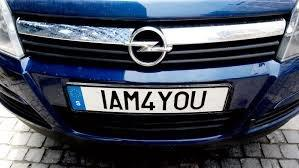license-plates: (66, 85, 230, 114)
